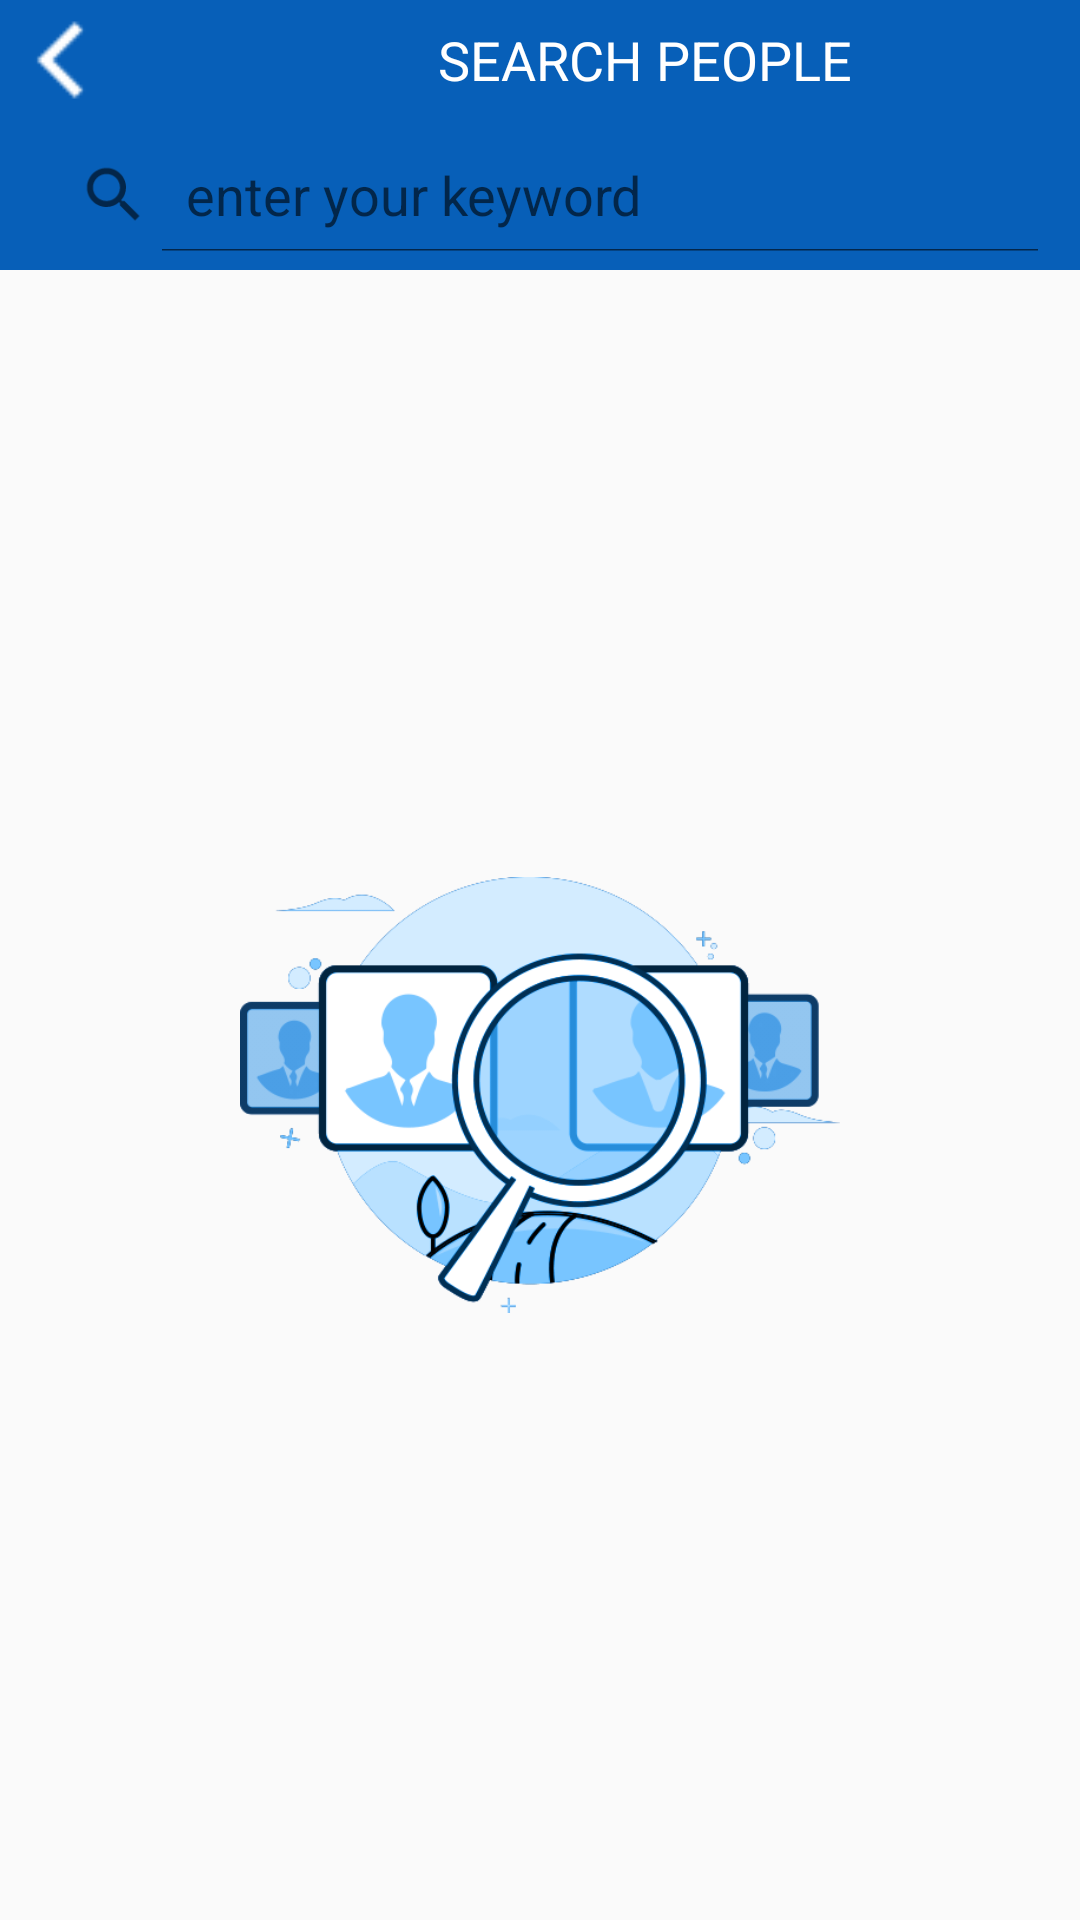

Point at icon controls on the screen. Image size 1080w x 1920h, points as point (x, y).
back bu: point (60, 60)
